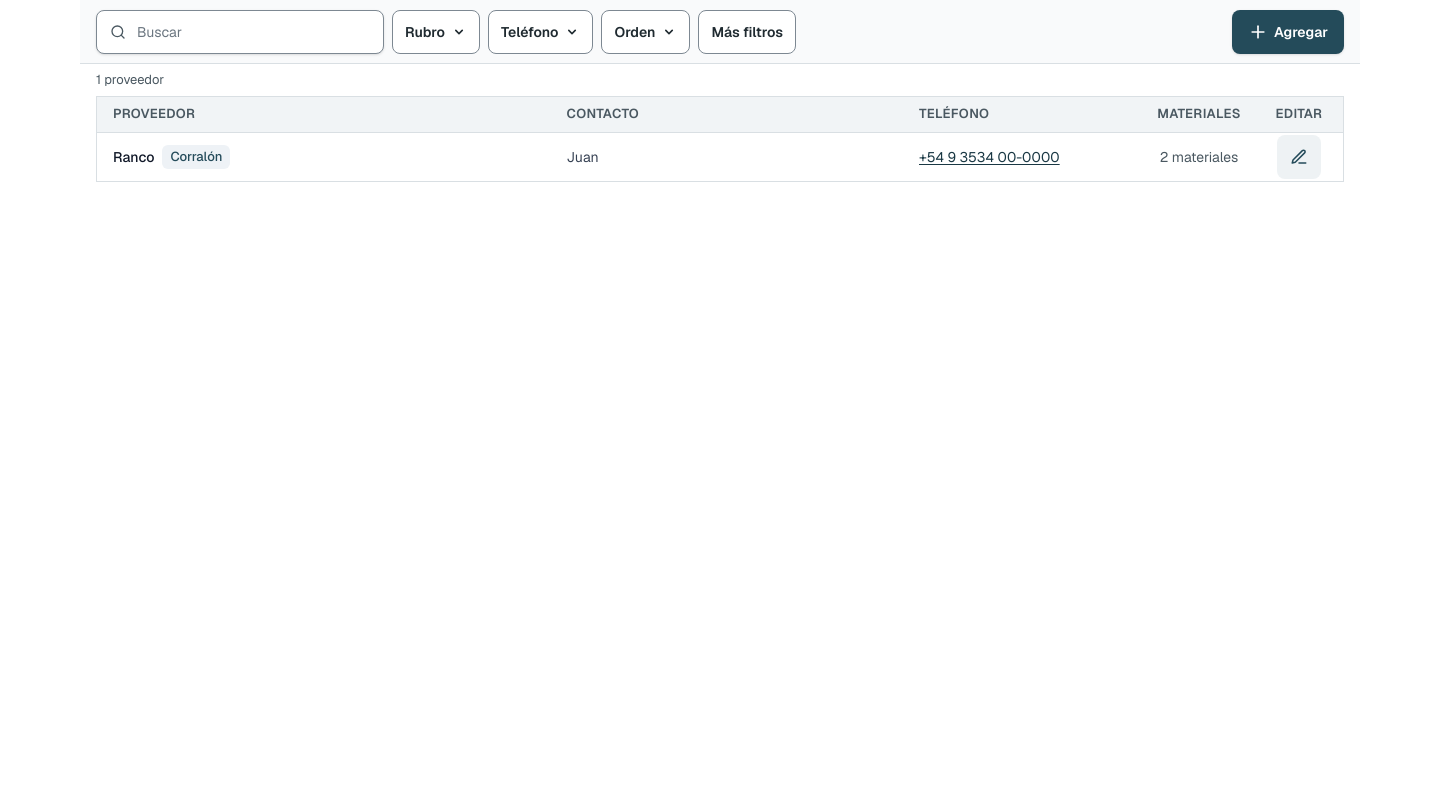
Test: Proveedores › desactivar es apagar 'Activo' en la edición
expect the text "Ranco" is shown: met, box [113, 146, 154, 166]
Click the button named "Editar Ranco": click(1299, 156) [1277, 134, 1321, 178]
(page scrolled)
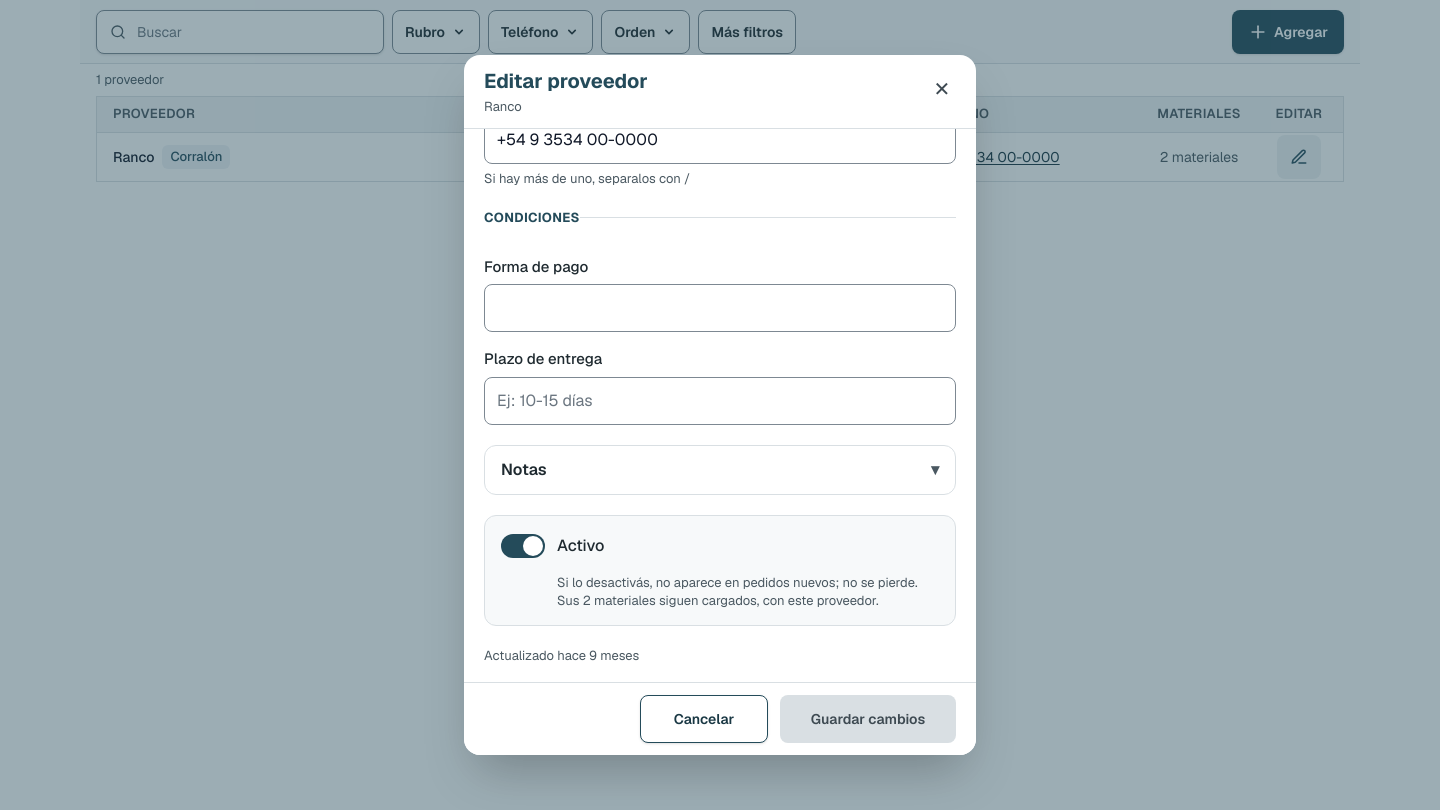
Click the switch labelled "Activo": click(523, 546) [501, 534, 604, 558]
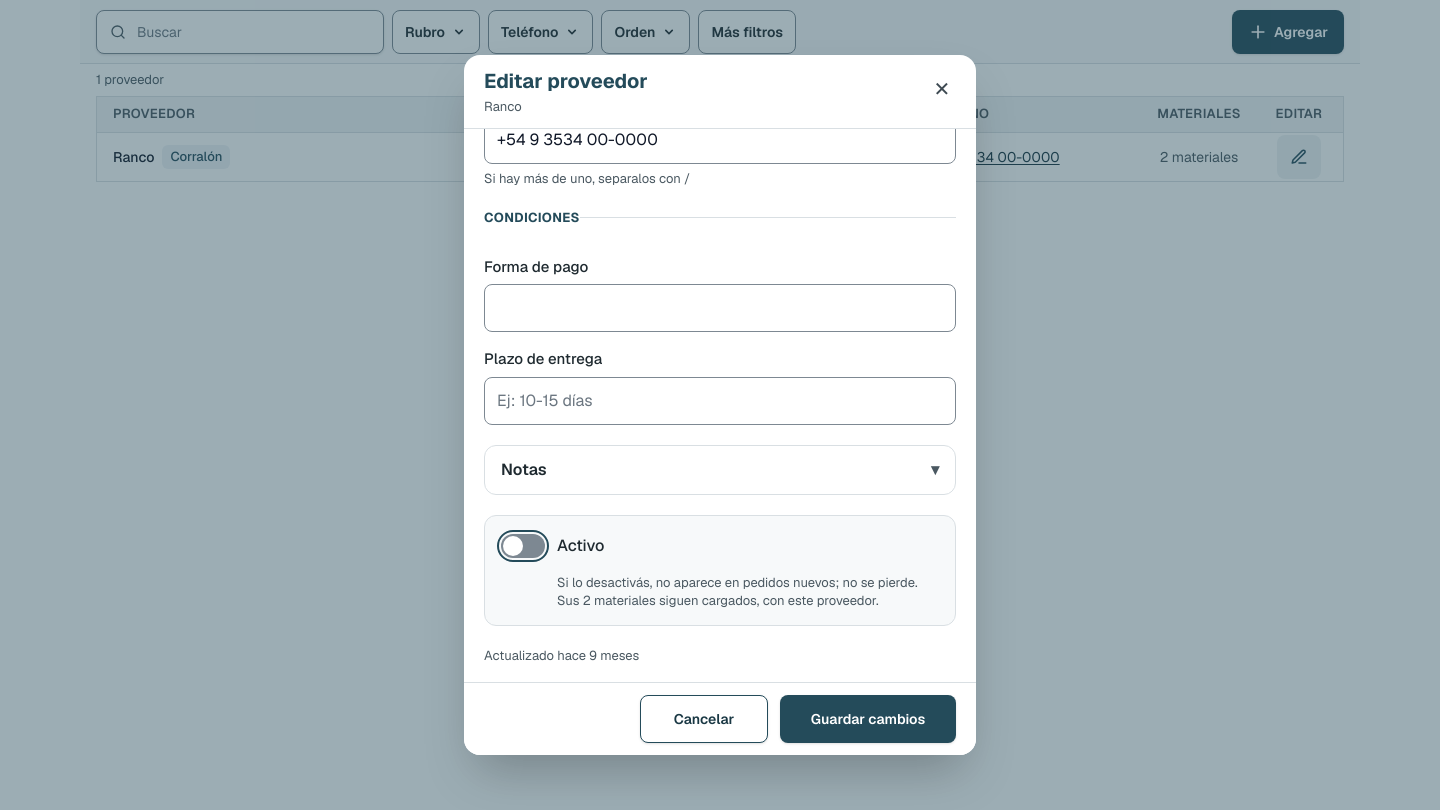
Click the button "Guardar cambios": click(868, 719) [780, 695, 956, 743]
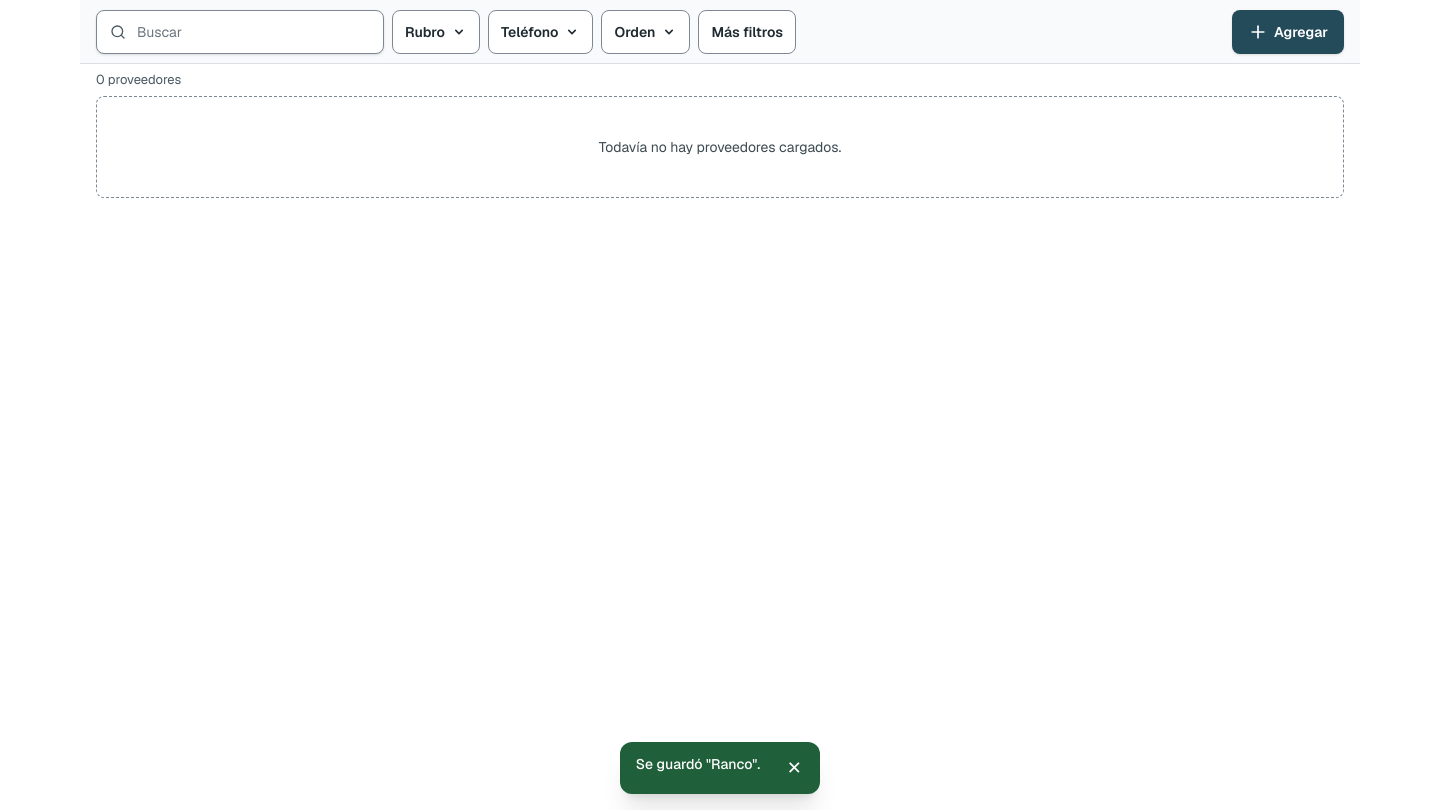
expect the text "Se guardó \"Ranco\"." is shown: met, box [636, 754, 760, 774]
